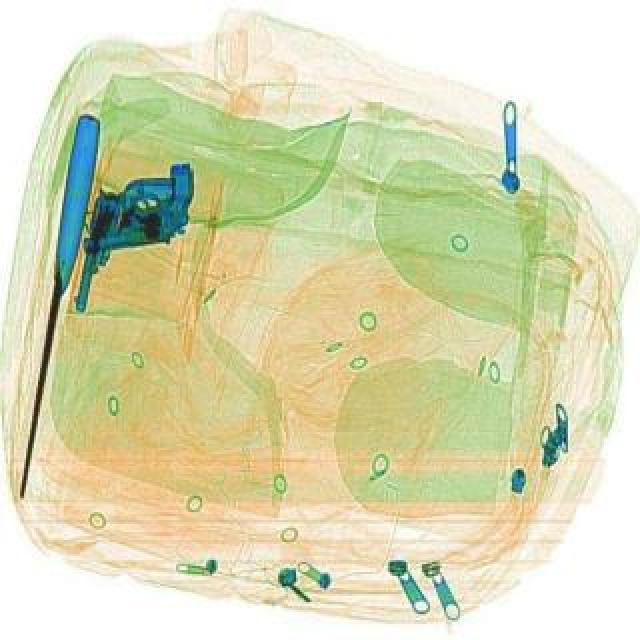gun: (66, 160, 178, 324), (70, 158, 204, 256)
knife: (4, 112, 104, 500)
